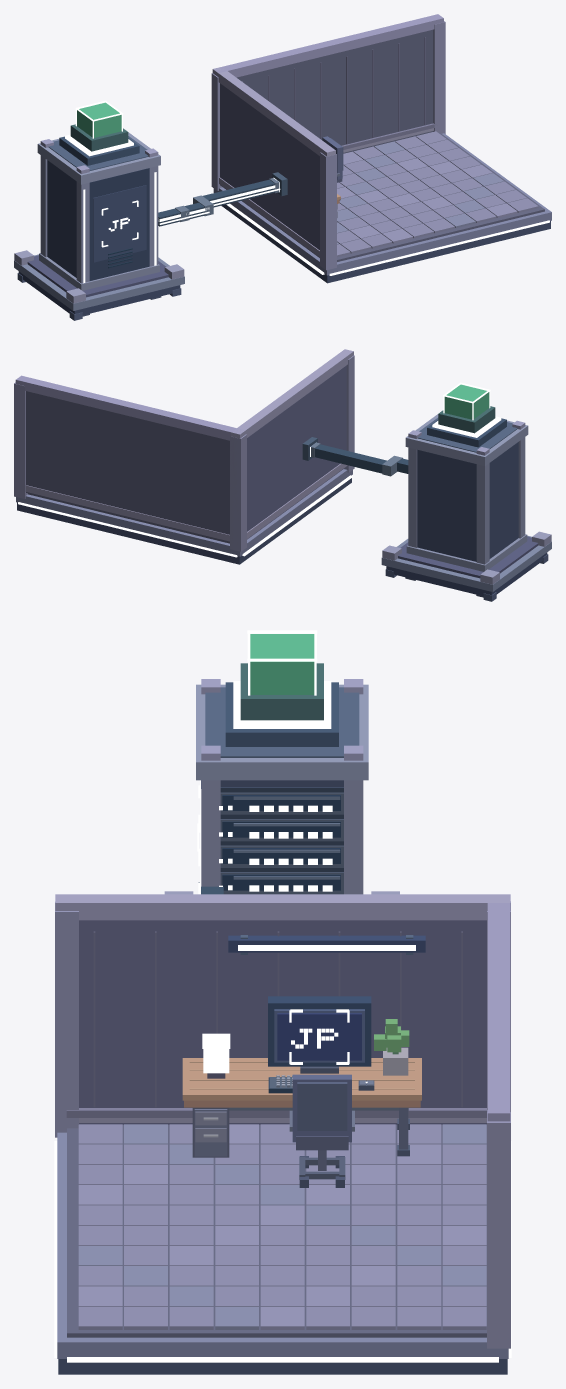
The model's file is room-server.f22674c93f15.glb.
The picture shows the model from 3 angles, top to bottom: view 1: azimuth 30°, elevation 25°; view 2: azimuth 150°, elevation 25°; view 3: azimuth 270°, elevation 25°; orthographic projection. The views are drawn at different scales.
Parts seen in each view (by area): view 1: Server rack + office room / isometric; view 2: Server rack + office room / isometric; view 3: Server rack + office room / isometric.
Part boxes in pixels (<box>): Server rack + office room / isometric: <box>14,14,551,320</box>; Server rack + office room / isometric: <box>14,349,551,601</box>; Server rack + office room / isometric: <box>54,630,511,1374</box>.
Bounding box in the file's own units: 15.66 × 5.98 × 6.86.
